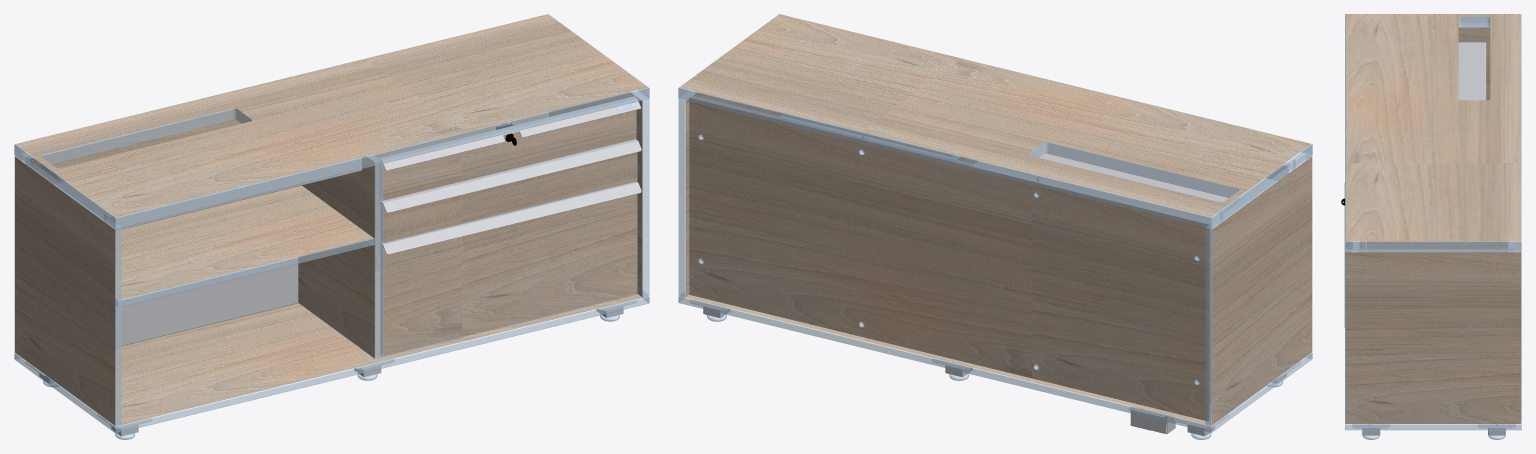
The model's file is LKAL180000_DER_150.glb.
3 views of the same model, side by side, from view 1: azimuth 30°, elevation 25°; view 2: azimuth 150°, elevation 25°; view 3: azimuth 270°, elevation 25° (orthographic). The views are drawn at different scales.
Visible parts, largest first — view 1: 4 (×4), 57, 58, 70, 59; view 2: 4 (×4), 57, 67, 59; view 3: 4 (×4), 57, 70.
Part boxes in pixels (x1,y1,x2,y2): 4 (×4): [14, 14, 649, 433]; 57: [53, 157, 361, 347]; 58: [378, 96, 640, 170]; 70: [379, 139, 641, 212]; 59: [379, 181, 641, 254]; 4 (×4): [678, 14, 1312, 432]; 57: [973, 142, 1290, 407]; 67: [1128, 406, 1175, 434]; 59: [780, 115, 954, 160]; 4 (×4): [1345, 14, 1521, 430]; 57: [1458, 42, 1486, 100]; 70: [1344, 183, 1353, 290].
Bounding box in the file's own units: 1.53 × 0.643 × 0.511.
Materials: 4 (1 with a texture image).
